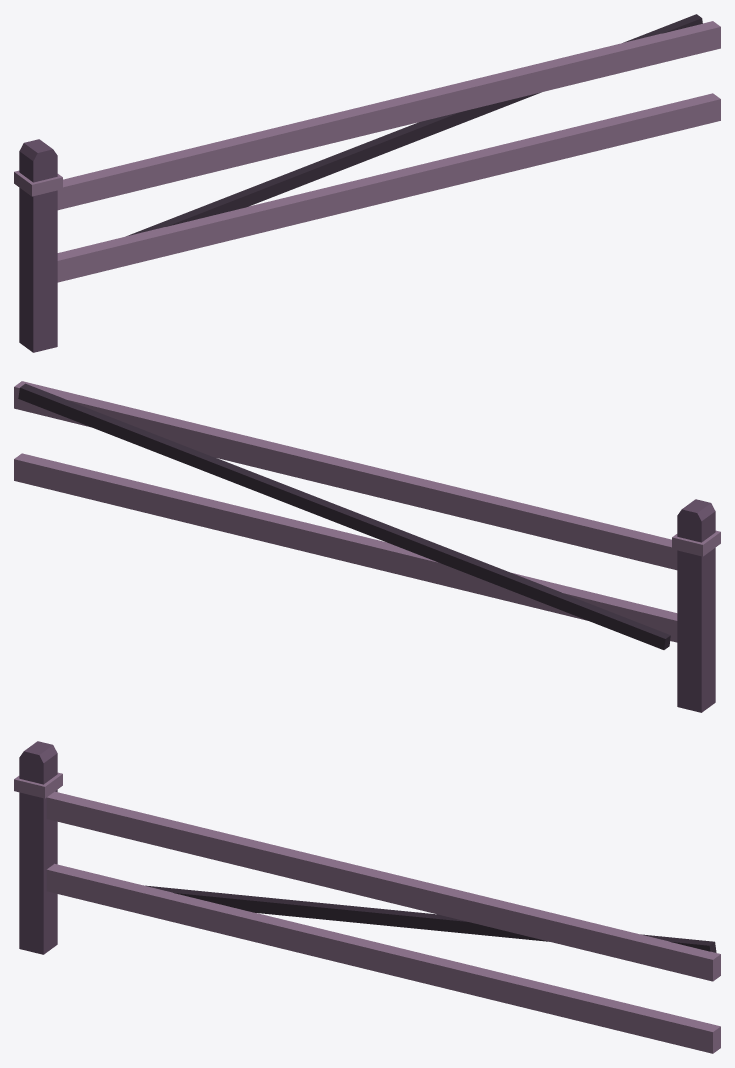
Rendered from TW_WOOD_RAIL_4M_B_LOD0.glb.
3 renders of one model, top to bottom at view 1: azimuth 30°, elevation 25°; view 2: azimuth 150°, elevation 25°; view 3: azimuth 330°, elevation 25°, orthographic.
Visible parts, largest first — view 1: TW_WOOD_RAIL_4M_B_LOD0; view 2: TW_WOOD_RAIL_4M_B_LOD0; view 3: TW_WOOD_RAIL_4M_B_LOD0.
Part boxes in pixels (x1,y1,x2,y2): TW_WOOD_RAIL_4M_B_LOD0: [14, 14, 720, 352]; TW_WOOD_RAIL_4M_B_LOD0: [14, 381, 720, 712]; TW_WOOD_RAIL_4M_B_LOD0: [14, 741, 720, 1053].
Size of the model in its own units: 4.02 by 1.1 by 0.1825.
1 material, 1 textured.
